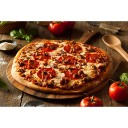pepperonipizza: (15, 39, 112, 90)
